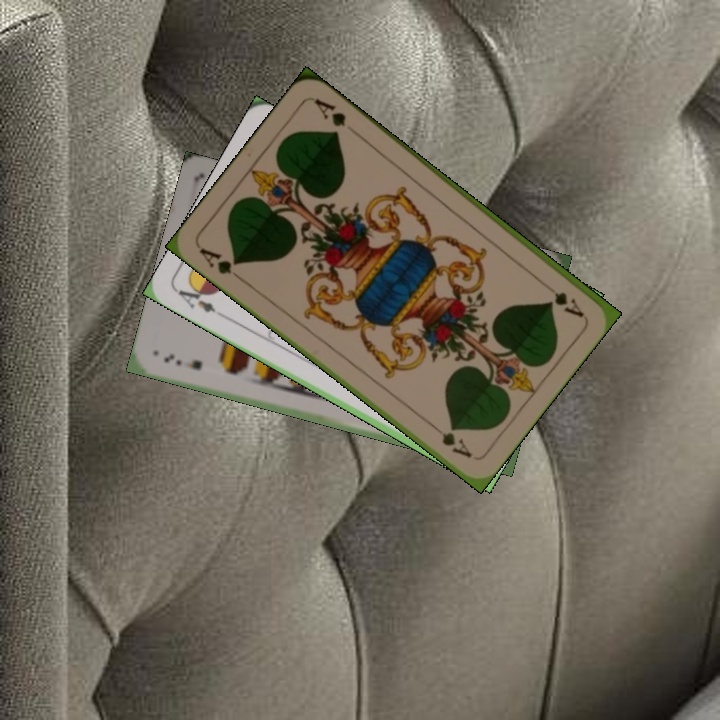E7: (160, 349, 205, 373)
EA: (174, 279, 227, 320)
GA: (195, 243, 246, 284), (550, 287, 587, 320)
